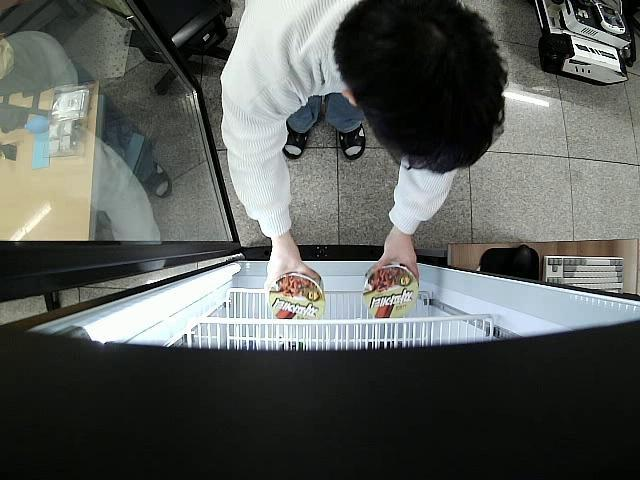03_chapagetti_L: (268, 266, 325, 329), (361, 260, 418, 318)
